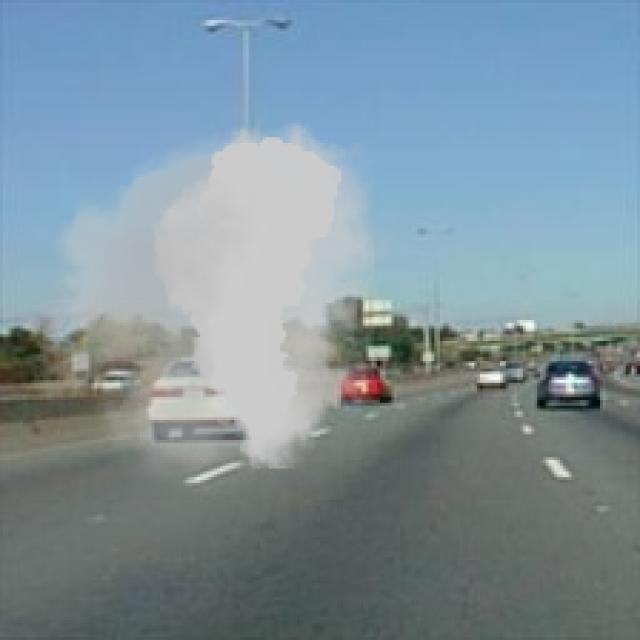Smoke: (14, 112, 406, 494)
